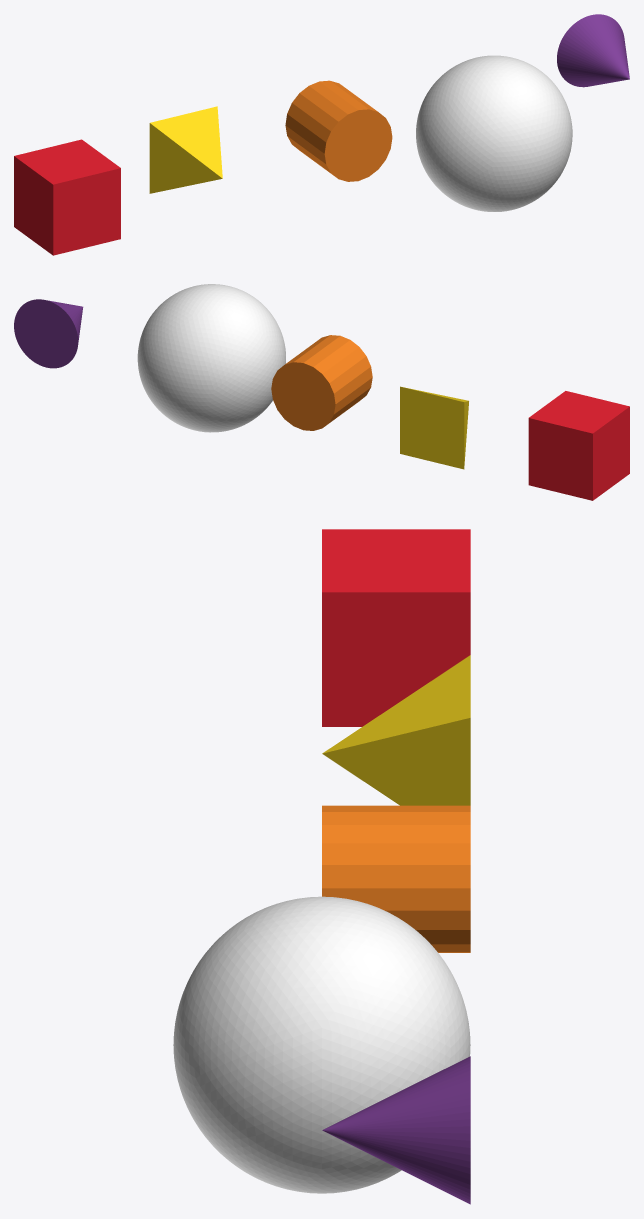
Rendered from Basic Shapes.fbx.
3 renders of one model, top to bottom at view 1: azimuth 30°, elevation 25°; view 2: azimuth 150°, elevation 25°; view 3: azimuth 270°, elevation 25°, orthographic. The views are drawn at different scales.
Visible parts, largest first — view 1: group_16777215, group_15277357, group_16089887, group_16768282, group_8273816; view 2: group_16777215, group_15277357, group_16089887, group_16768282, group_8273816; view 3: group_16777215, group_15277357, group_16089887, group_16768282, group_8273816.
Part boxes in pixels (x1,y1,x2,y2): group_16777215: (416,55,572,211); group_15277357: (14,139,120,255); group_16089887: (285,80,392,181); group_16768282: (149,106,222,193); group_8273816: (557,14,629,87); group_16777215: (137,284,285,432); group_15277357: (528,391,629,500); group_16089887: (271,335,372,430); group_16768282: (400,386,468,469); group_8273816: (14,299,83,368); group_16777215: (173,896,470,1193); group_15277357: (322,529,470,726); group_16089887: (322,805,470,952); group_16768282: (322,655,470,805); group_8273816: (322,1056,470,1204).
Bounding box in the file's own units: 90 × 20 × 20.
